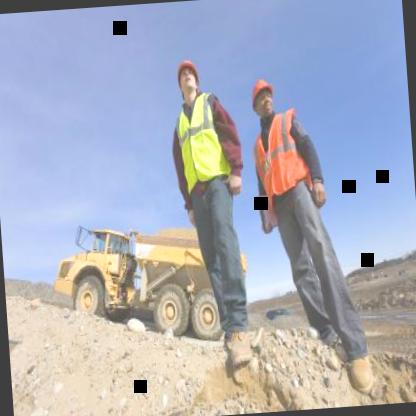helmet: (248, 76, 278, 121), (176, 54, 202, 104)
